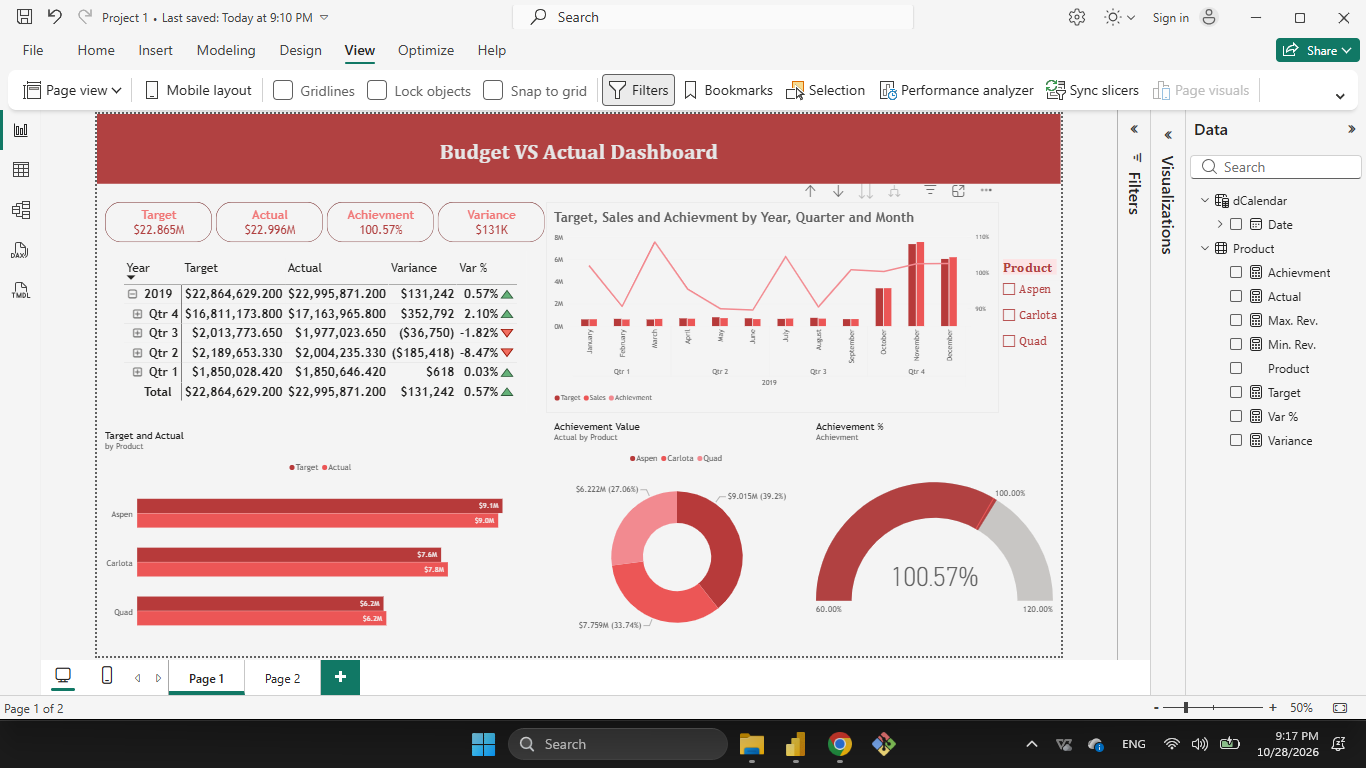

Layout of this report page (visuals, bound fields, positions):
{"tool":"powerbi","page":{"name":"Dashboard","canvas":[1920,1080],"ordinal":0},"visuals":[{"type":"lineClusteredColumnComboChart","fields":{"Category":["dCalendar.Date.Variation.Date Hierarchy.Year","dCalendar.Date.Variation.Date Hierarchy.Quarter","dCalendar.Date.Variation.Date Hierarchy.Month"],"Y":["Sum(Target.Target)","Sum(Actual.Sales)"],"Y2":["Product.Achievment"]},"box":[894,174.8,903,421.2],"z":0},{"type":"cardVisual","fields":{"Data":["Product.Target","Product.Actual","Product.Achievment","Product.Variance"]},"box":[15.7,174.8,878.3,80.7],"z":1000},{"type":"donutChart","title":"Achievement Value","fields":{"Category":["Product.Product"],"Y":["Product.Actual"]},"box":[894,596,522.1,484],"z":2000},{"type":"gauge","title":"Achievement %","fields":{"Y":["Product.Achievment"]},"box":[1416.1,596,504.1,484],"z":3000},{"type":"textbox","box":[0,0,1920.2,138.9],"z":5000},{"type":"slicer","fields":{"Values":["Product.Product"]},"box":[1797,289,123.2,190.5],"z":6000},{"type":"clusteredBarChart","fields":{"Category":["Product.Product"],"Y":["Product.Target","Product.Actual"]},"box":[0,613.9,894,466.1],"z":6001},{"type":"pivotTable","fields":{"Rows":["dCalendar.Date.Variation.Date Hierarchy.Year","dCalendar.Date.Variation.Date Hierarchy.Quarter","dCalendar.Date.Variation.Date Hierarchy.Month"],"Values":["Product.Target","Product.Actual","Product.Variance","Product.Var %"]},"box":[38.1,273.4,817.8,322.7],"z":6002}]}

Visuals, with their boxes on the page's 1920x1080 design canvas (x1, y1, x2, y2). These are canvas units, not pixel positions in the 1366x768 screenshot, which may show the page scaled, cropped or inside an application window:
lineClusteredColumnComboChart - dCalendar.Date.Variation.Date Hierarchy.Year x dCalendar.Date.Variation.Date Hierarchy.Quarter: bbox(894, 175, 1797, 596)
cardVisual - Product.Target x Product.Actual: bbox(16, 175, 894, 256)
"Achievement Value" donutChart: bbox(894, 596, 1416, 1080)
"Achievement %" gauge: bbox(1416, 596, 1920, 1080)
textbox: bbox(0, 0, 1920, 139)
slicer - Product.Product: bbox(1797, 289, 1920, 480)
clusteredBarChart - Product.Product x Product.Target: bbox(0, 614, 894, 1080)
pivotTable - dCalendar.Date.Variation.Date Hierarchy.Year x dCalendar.Date.Variation.Date Hierarchy.Quarter: bbox(38, 273, 856, 596)
